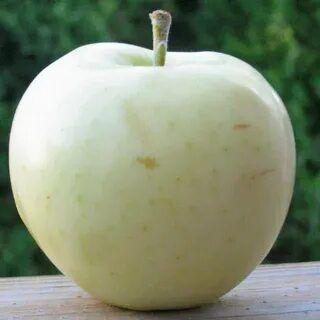Apple: (8, 40, 296, 312)
